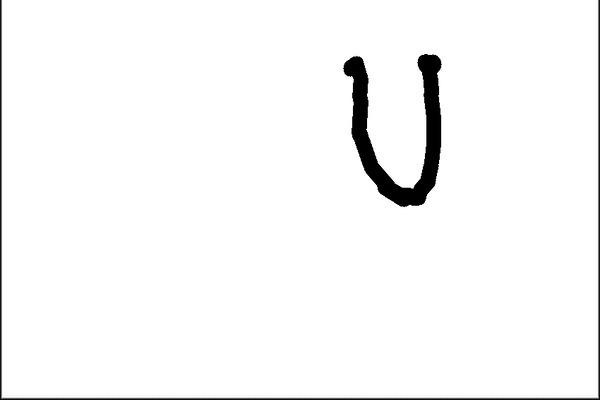U: (331, 38, 467, 210)
